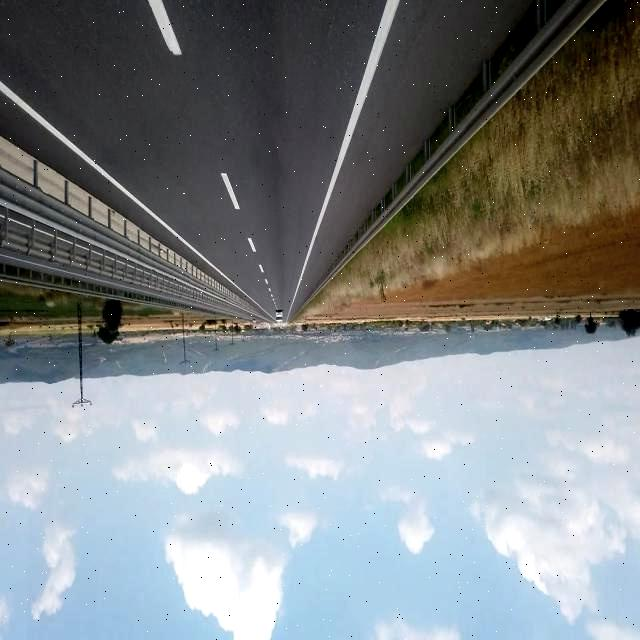lane: (1, 82, 247, 296), (305, 7, 400, 268), (149, 1, 181, 55), (221, 173, 239, 209)
road: (1, 1, 520, 316)
